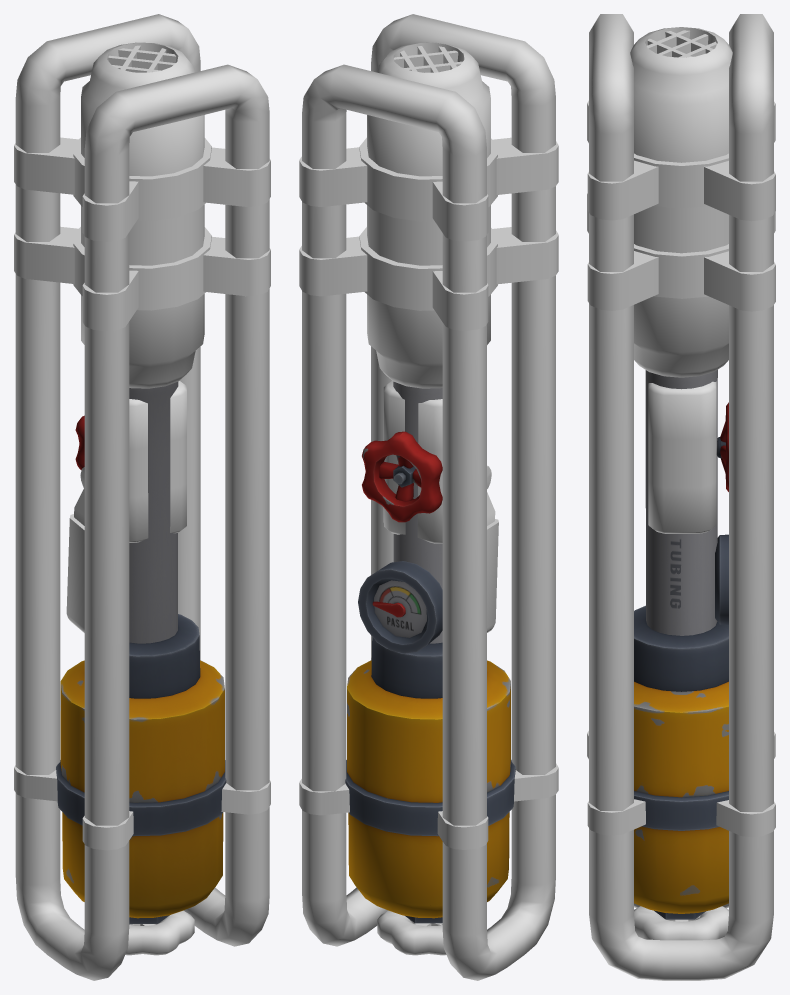
Rendered from fant_flamethrower_remodel.fbx.
3 renders of one model, left to right at view 1: azimuth 30°, elevation 25°; view 2: azimuth 150°, elevation 25°; view 3: azimuth 270°, elevation 25°, orthographic.
Parts seen in each view (by area): view 1: fant_flamethrower; view 2: fant_flamethrower; view 3: fant_flamethrower.
Boxes of the visible parts, box(x1,y1,x2,y2) form: fant_flamethrower: box(14, 14, 270, 980); fant_flamethrower: box(299, 14, 558, 980); fant_flamethrower: box(587, 14, 775, 980).
Bounding box in the file's own units: 108 × 500 × 94.57.
